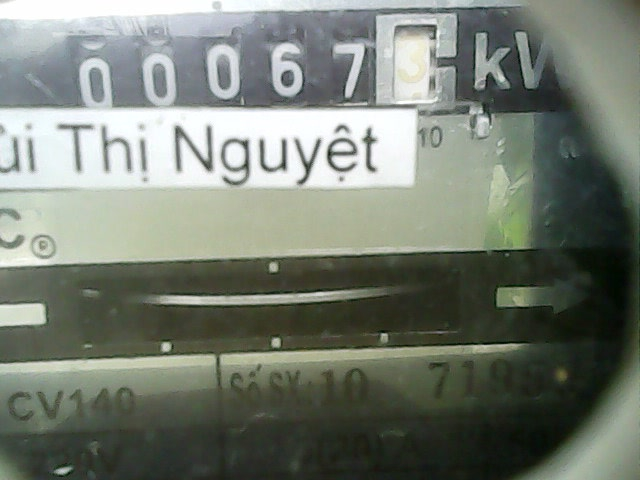phy_plate: (67, 13, 464, 128)
